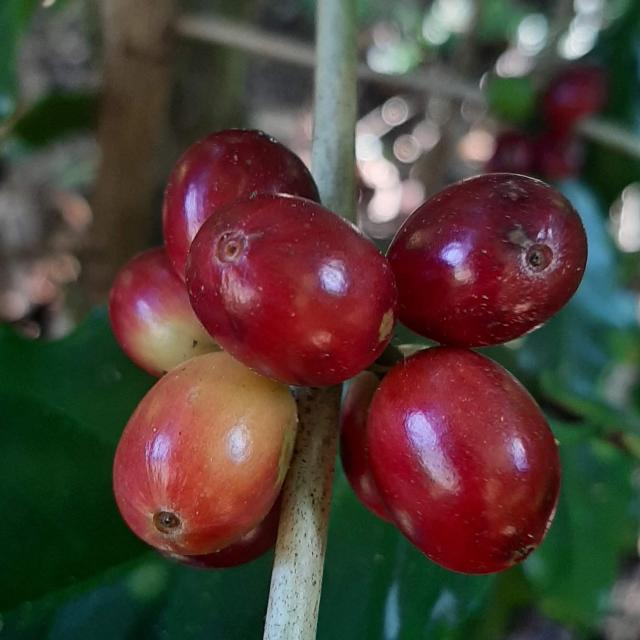red: (367, 347, 562, 575), (185, 194, 397, 387), (387, 173, 588, 348), (162, 128, 319, 279), (159, 496, 281, 570), (341, 371, 392, 523)
yellow: (113, 352, 297, 557), (108, 248, 220, 378)
